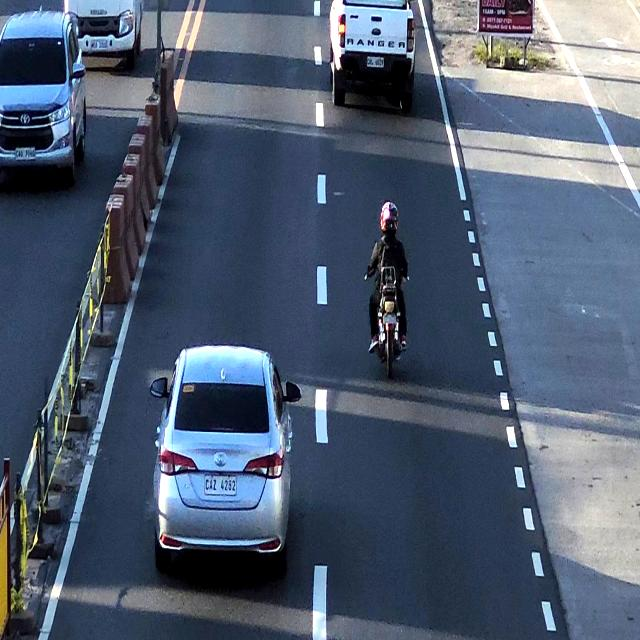Car: (157, 348, 297, 563), (328, 0, 414, 110)
License-Plate: (202, 475, 237, 500), (368, 56, 386, 70)
Motorcycle: (366, 195, 411, 376)
